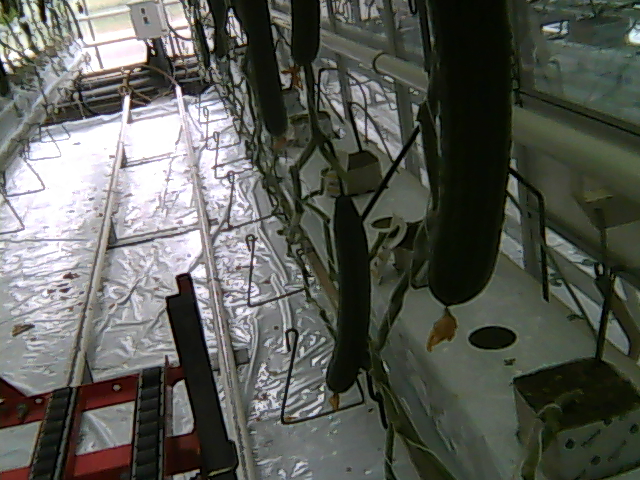concombre: (423, 1, 517, 345), (324, 190, 374, 416), (242, 1, 292, 159), (290, 1, 322, 77)
